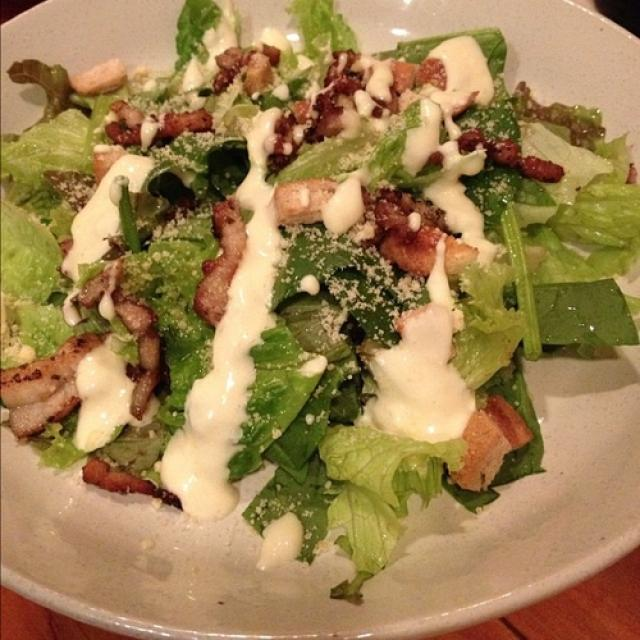蔬菜料理: (4, 2, 637, 624)
